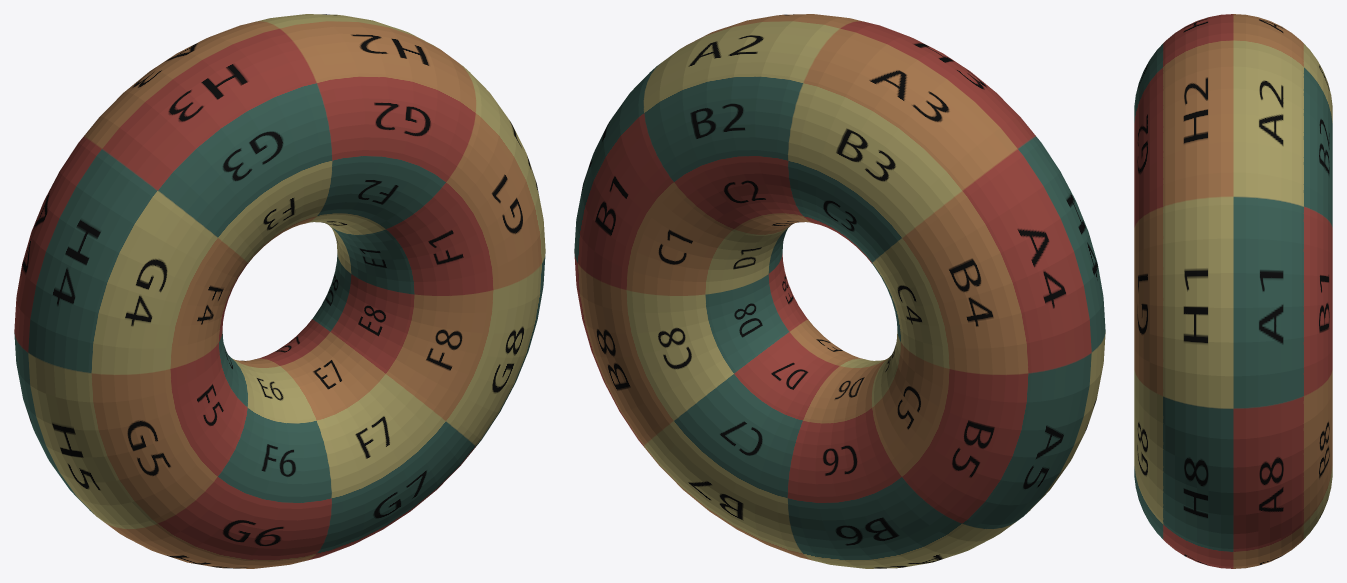
The model's file is texture_torus_R9_r26.glb.
3 views of the same model, side by side, from view 1: azimuth 30°, elevation 25°; view 2: azimuth 150°, elevation 25°; view 3: azimuth 270°, elevation 25° (orthographic). The views are drawn at different scales.
Visible parts, largest first — view 1: world; view 2: world; view 3: world.
Boxes of the visible parts, left/top/right/bottom form: world: left=14, top=14, right=545, bottom=568; world: left=574, top=14, right=1105, bottom=568; world: left=1134, top=14, right=1332, bottom=568.
Bounding box in the file's own units: 24.93 × 24.88 × 8.92.
Materials: 1 (1 with a texture image).
